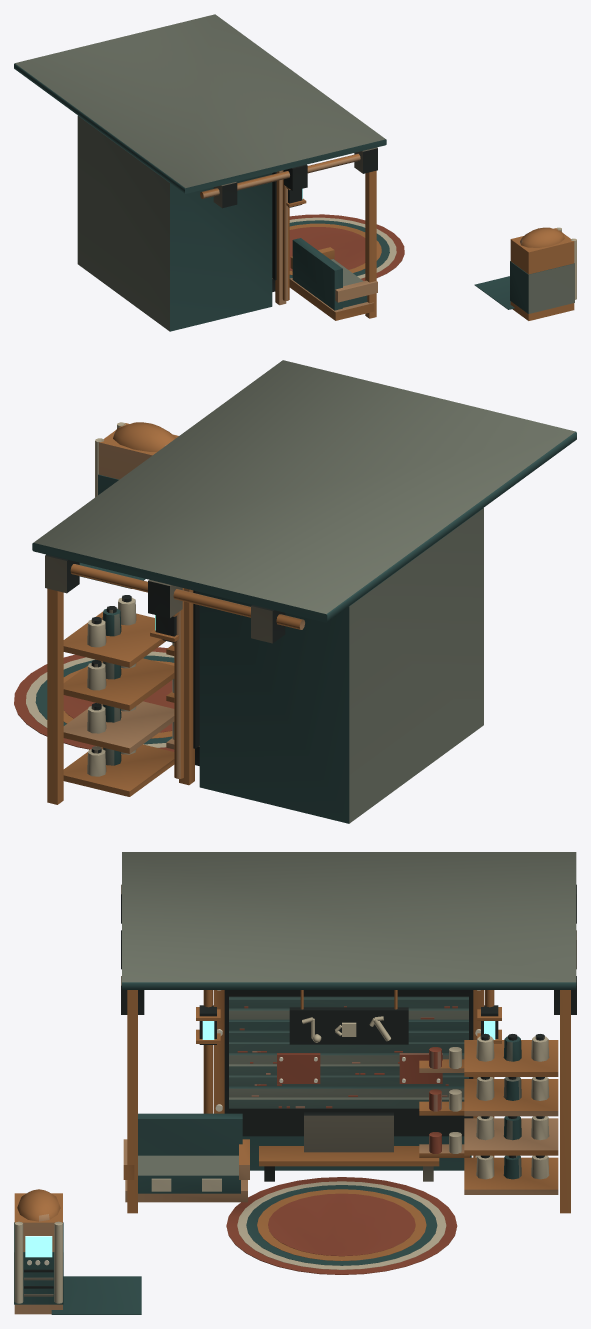
The model's file is moss_workshop.glb.
3 views of the same model, one above another, from view 1: azimuth 30°, elevation 25°; view 2: azimuth 150°, elevation 25°; view 3: azimuth 270°, elevation 25° (orthographic). The views are drawn at different scales.
Visible parts, largest first — view 1: CabinDress; view 2: CabinDress; view 3: CabinDress.
Part boxes in pixels (x1,y1,x2,y2): CabinDress: (14,14,576,331); CabinDress: (14,360,576,823); CabinDress: (14,852,576,1314).
Size of the model in its own units: 15.15 by 7.24 by 15.61.
